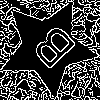B: (22, 22, 78, 78)
